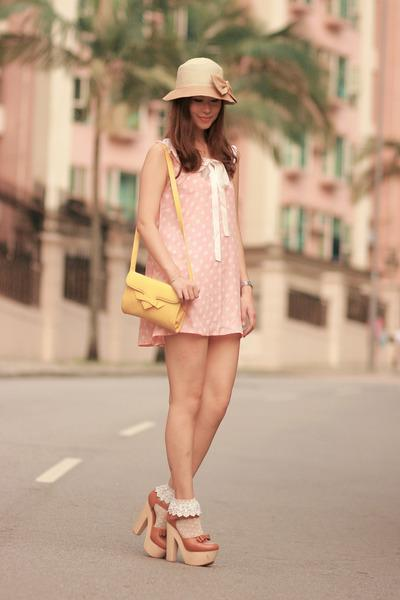bag: (121, 254, 198, 332)
dress: (158, 145, 242, 335)
hat: (163, 58, 232, 101)
shoe: (130, 484, 218, 577)
